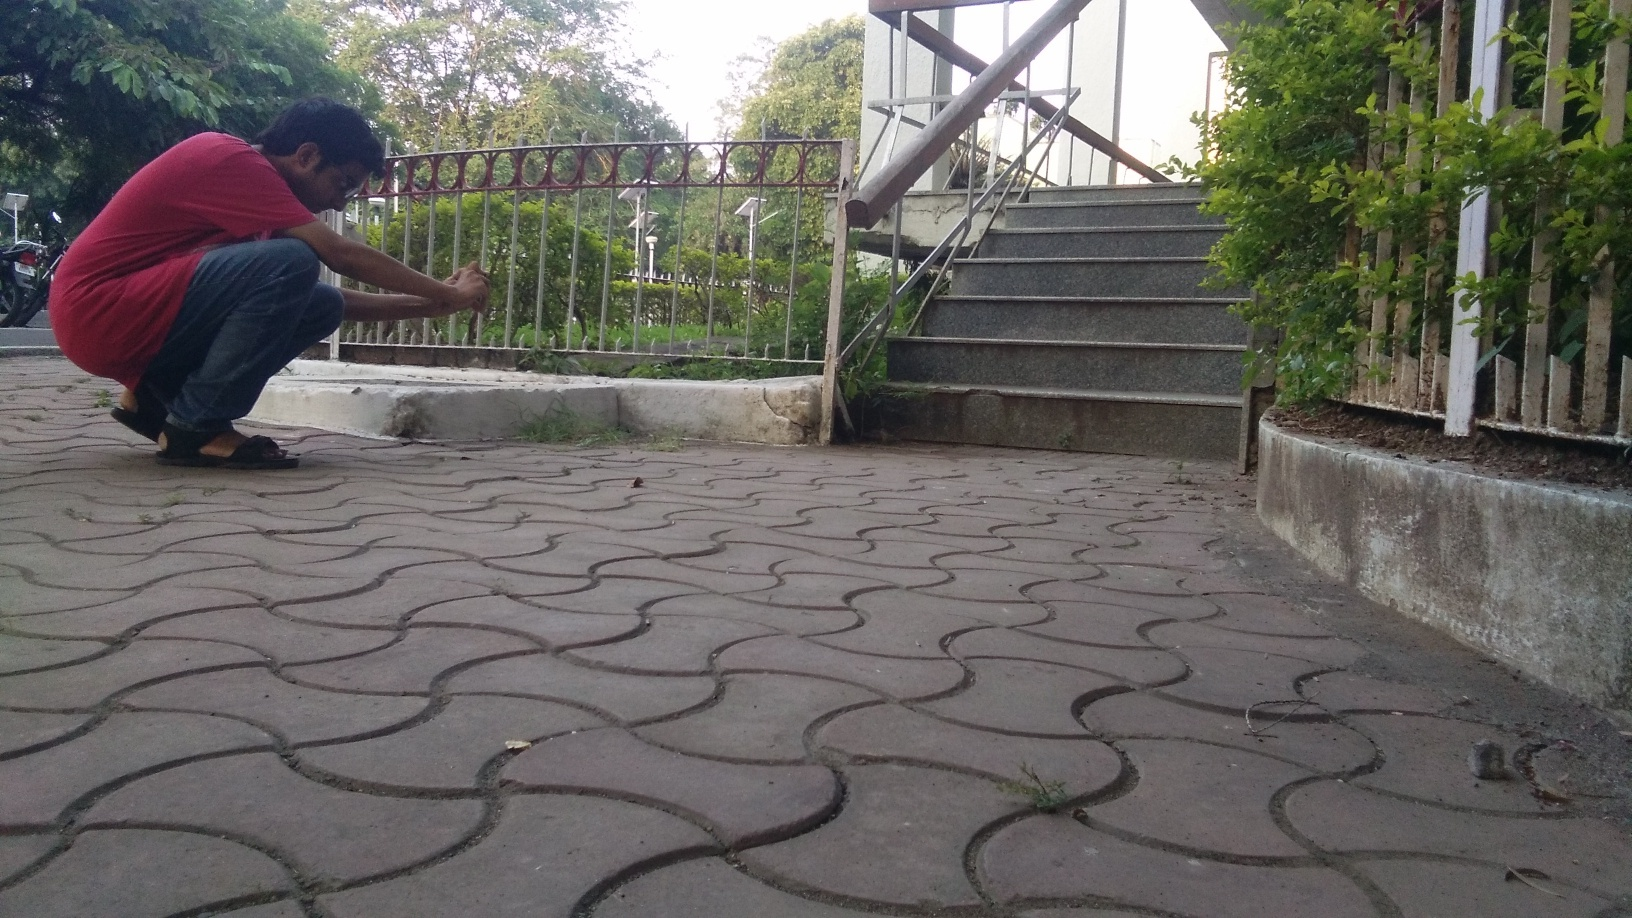stairs_up: (840, 152, 1271, 509)
